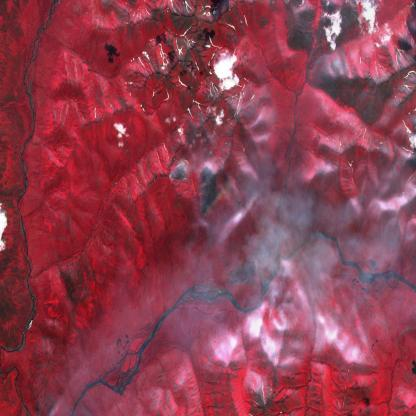fire: (168, 158, 220, 219), (229, 254, 258, 290)
